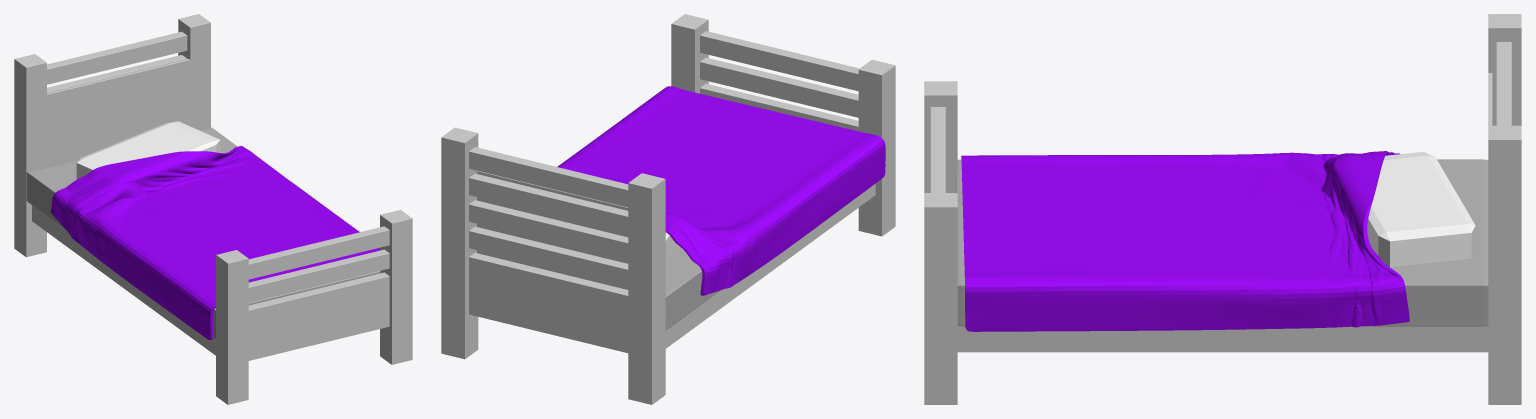
The model's file is bed.glb.
3 renders of one model, left to right at view 1: azimuth 30°, elevation 25°; view 2: azimuth 150°, elevation 25°; view 3: azimuth 270°, elevation 25°, orthographic. The views are drawn at different scales.
Parts seen in each view (by area): view 1: bed_frame, blanket, pillow, mattress; view 2: bed_frame, blanket, mattress; view 3: blanket, bed_frame, pillow, mattress.
Part boxes in pixels (x1,y1,x2,y2): bed_frame: [14, 14, 412, 404]; blanket: [51, 145, 379, 339]; pillow: [76, 121, 220, 179]; mattress: [26, 127, 380, 339]; bed_frame: [441, 14, 895, 404]; blanket: [557, 86, 885, 295]; mattress: [480, 245, 719, 329]; blanket: [961, 151, 1409, 331]; bed_frame: [924, 14, 1521, 404]; pillow: [1367, 151, 1475, 267]; mattress: [956, 159, 1488, 326].
Bounding box in the file's own units: 4.04 × 3.71 × 7.57.
